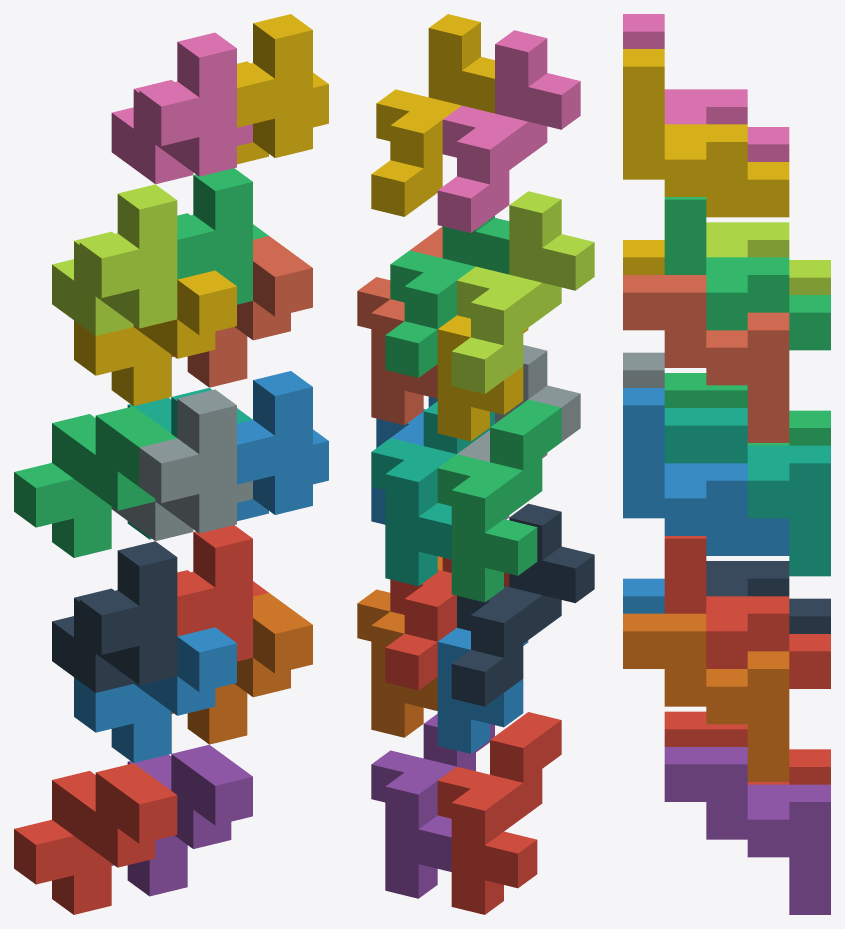
Rendered from tiling.obj.
3 views of the same model, side by side, from view 1: azimuth 30°, elevation 25°; view 2: azimuth 150°, elevation 25°; view 3: azimuth 270°, elevation 25° (orthographic). The views are drawn at different scales.
Parts seen in each view (by area): view 1: copy_1_domain_1, copy_1_domain_3, copy_2_domain_4, copy_2_domain_1, copy_2_domain_3, copy_2_domain_2, copy_1_domain_4, copy_1_domain_2, copy_2_domain_8, copy_2_domain_6, copy_1_domain_5, copy_1_domain_6 (+4 smaller); view 2: copy_1_domain_1, copy_1_domain_3, copy_2_domain_4, copy_2_domain_3, copy_2_domain_1, copy_2_domain_8, copy_1_domain_5, copy_1_domain_7, copy_2_domain_7, copy_2_domain_5, copy_1_domain_8, copy_1_domain_6 (+4 smaller); view 3: copy_2_domain_8, copy_1_domain_5, copy_1_domain_6, copy_1_domain_8, copy_2_domain_6, copy_1_domain_7, copy_2_domain_7, copy_2_domain_5, copy_2_domain_4, copy_2_domain_1, copy_2_domain_3, copy_1_domain_1 (+4 smaller).
Part boxes in pixels (<box>): copy_1_domain_1: <box>14,763,177,914</box>; copy_1_domain_3: <box>14,406,176,557</box>; copy_2_domain_4: <box>111,32,252,184</box>; copy_2_domain_1: <box>52,541,177,692</box>; copy_2_domain_3: <box>52,184,177,335</box>; copy_2_domain_2: <box>111,389,252,540</box>; copy_1_domain_4: <box>74,270,236,406</box>; copy_1_domain_2: <box>74,627,236,762</box>; copy_2_domain_8: <box>237,14,328,164</box>; copy_2_domain_6: <box>237,371,328,521</box>; copy_1_domain_5: <box>111,744,252,896</box>; copy_1_domain_6: <box>171,593,312,744</box>; copy_1_domain_1: <box>437,712,561,914</box>; copy_1_domain_3: <box>437,399,561,602</box>; copy_2_domain_4: <box>437,30,580,232</box>; copy_2_domain_3: <box>451,191,594,393</box>; copy_2_domain_1: <box>451,503,594,706</box>; copy_2_domain_8: <box>371,14,494,216</box>; copy_1_domain_5: <box>371,714,494,898</box>; copy_1_domain_7: <box>371,401,494,586</box>; copy_2_domain_7: <box>385,216,509,377</box>; copy_2_domain_5: <box>385,557,509,690</box>; copy_1_domain_8: <box>357,226,442,425</box>; copy_1_domain_6: <box>357,556,442,737</box>; copy_2_domain_8: <box>623,49,789,217</box>; copy_1_domain_5: <box>664,747,830,914</box>; copy_1_domain_6: <box>623,613,789,781</box>; copy_1_domain_8: <box>623,275,789,442</box>; copy_2_domain_6: <box>623,388,789,555</box>; copy_1_domain_7: <box>664,408,830,576</box>; copy_2_domain_7: <box>664,197,830,350</box>; copy_2_domain_5: <box>664,536,830,688</box>; copy_2_domain_4: <box>623,14,789,161</box>; copy_2_domain_1: <box>706,561,830,633</box>; copy_2_domain_3: <box>706,222,830,294</box>; copy_1_domain_1: <box>664,711,830,784</box>.
Bounding box in the file's own units: 6 × 23 × 5.
